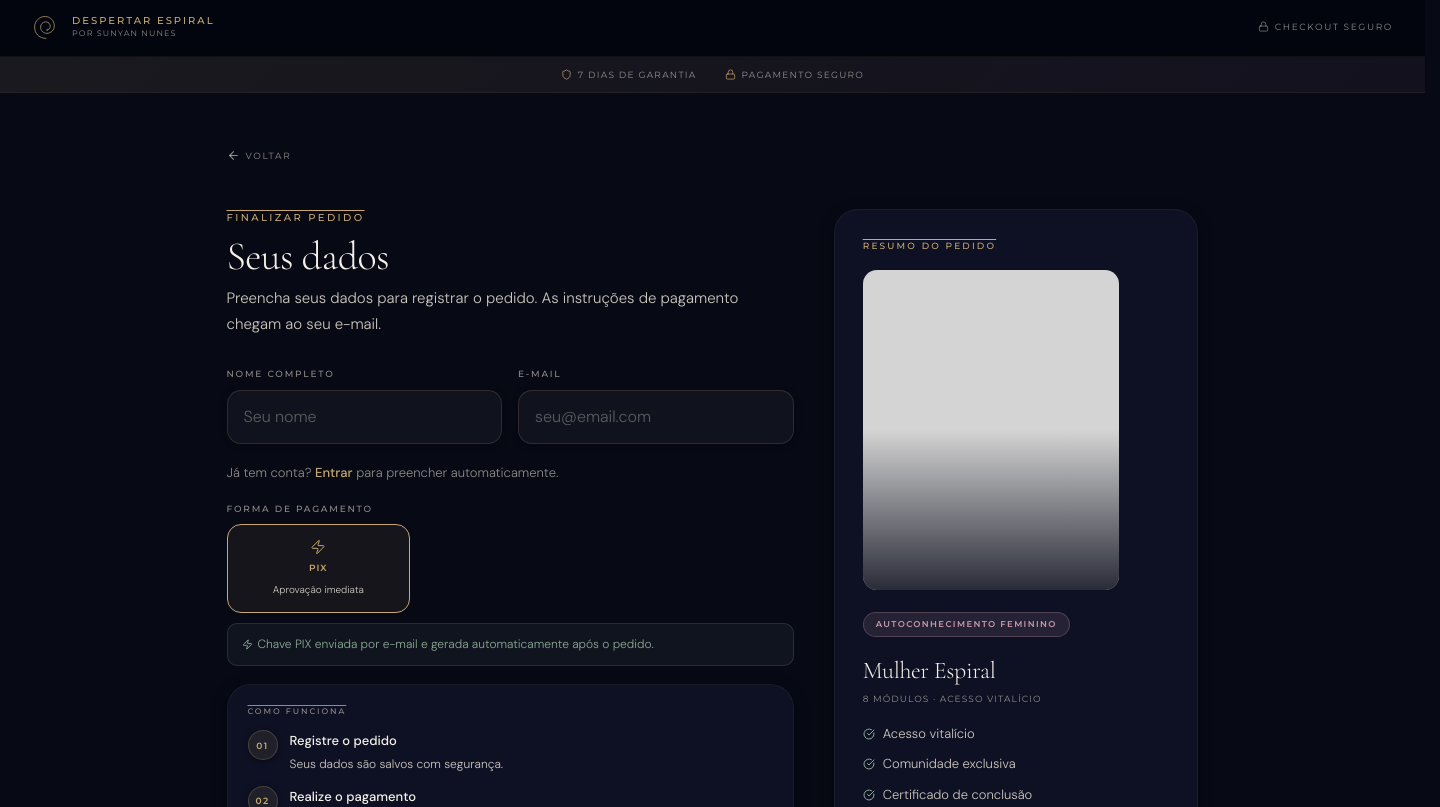
Test: CheckoutPage — form validation › shows 'E-mail obrigatório' error when email is empty on submit
The image size is (1440, 807).
In the field with placeholder "Seu nome": (364, 416) top-left (226, 390), bottom-right (502, 444), type "Ana Silva"
(page scrolled)
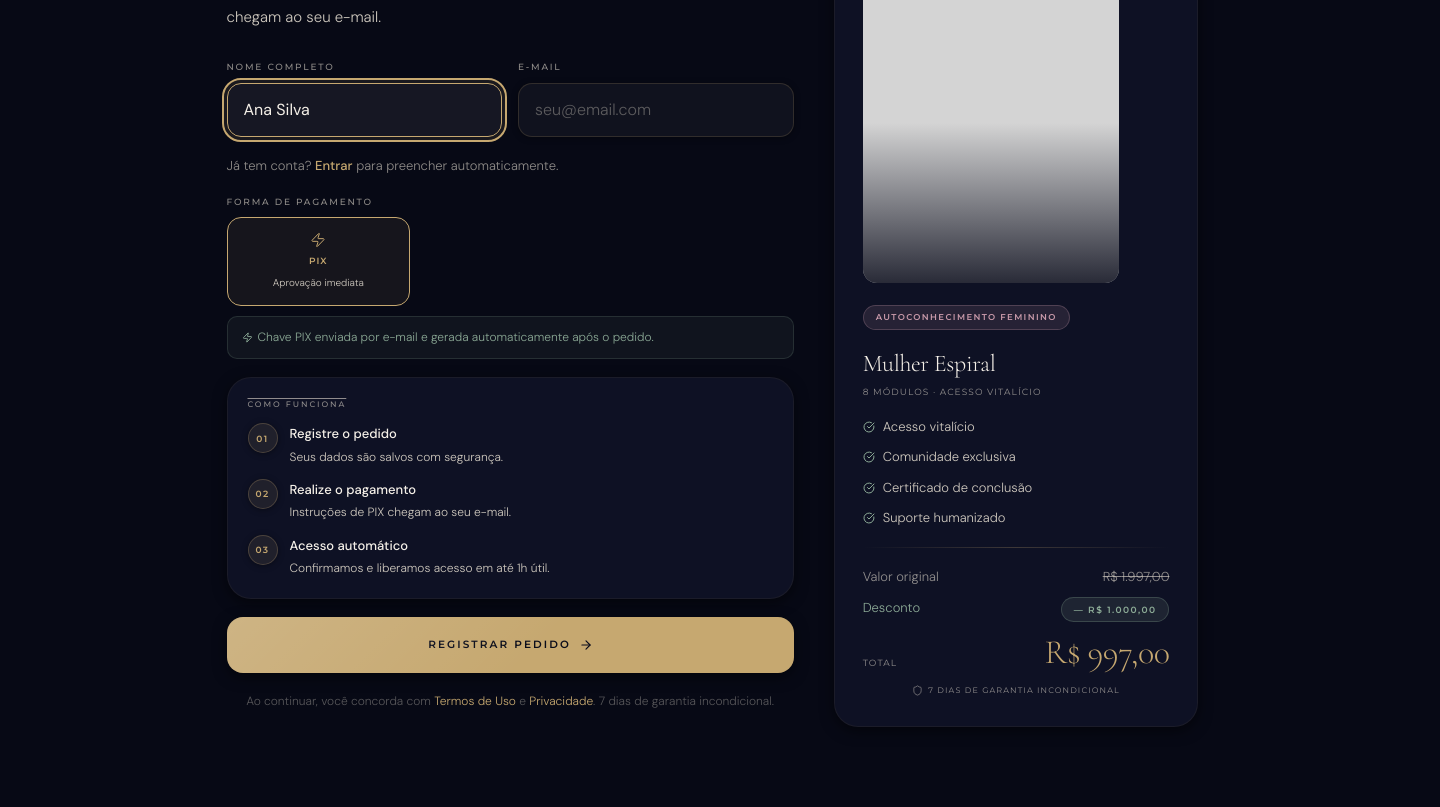
Click the button "Registrar pedido": (510, 645) top-left (226, 617), bottom-right (794, 673)
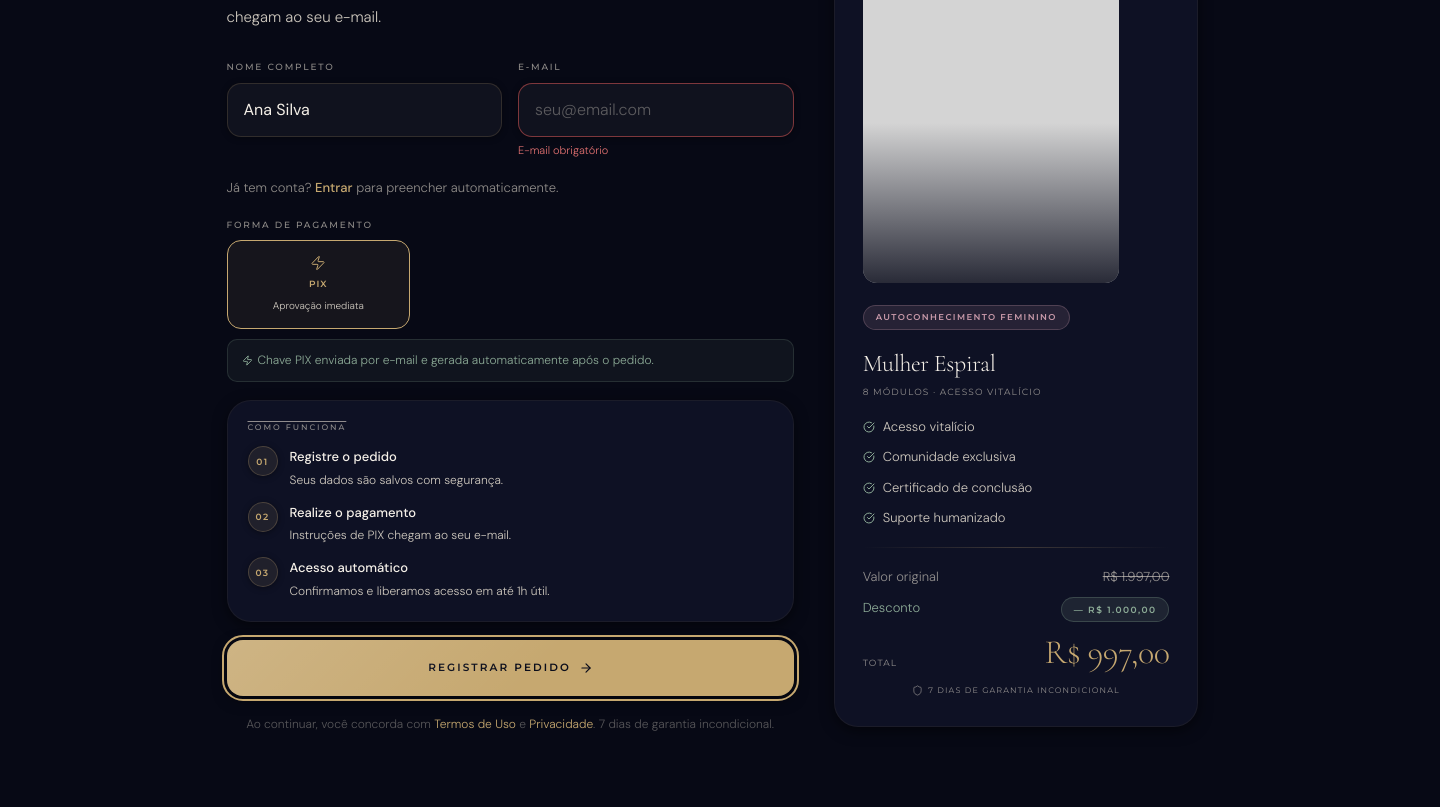
Expected: the text "E-mail obrigatório" is shown, top-left (518, 142), bottom-right (608, 156)
